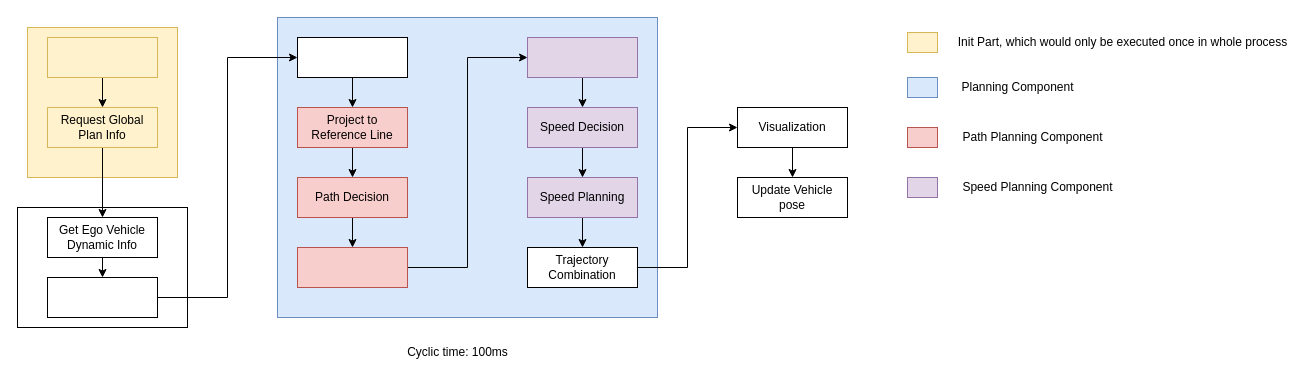
This 1315x385 diagram has some shape labels left out. The shapes that lost their labels are listed below. From the top down, each one's centre as x and y in pixels, then its label:
point 102,57: Request Map Info
point 352,57: Generate Reference Line
point 582,57: Project to path
point 352,267: Path Planning
point 102,297: Get Traffic Participant Info
